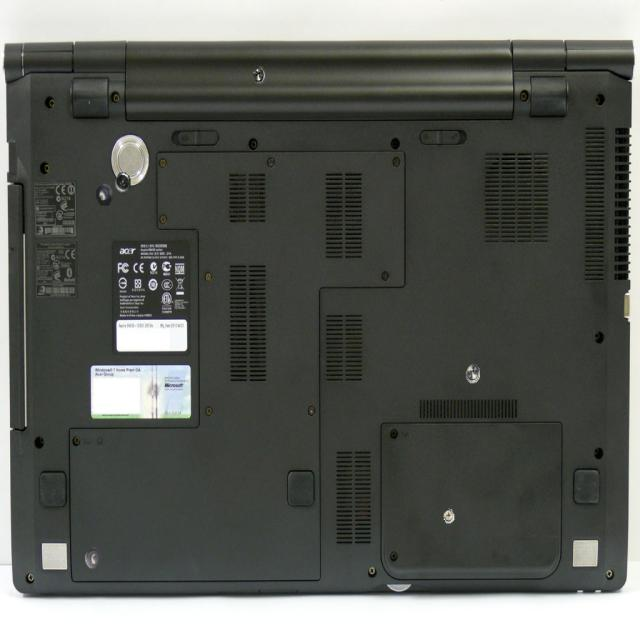lock: (114, 172, 131, 193), (465, 363, 480, 383), (252, 65, 266, 83), (443, 508, 454, 523)
missing_screw: (96, 182, 113, 206), (84, 547, 101, 568)
